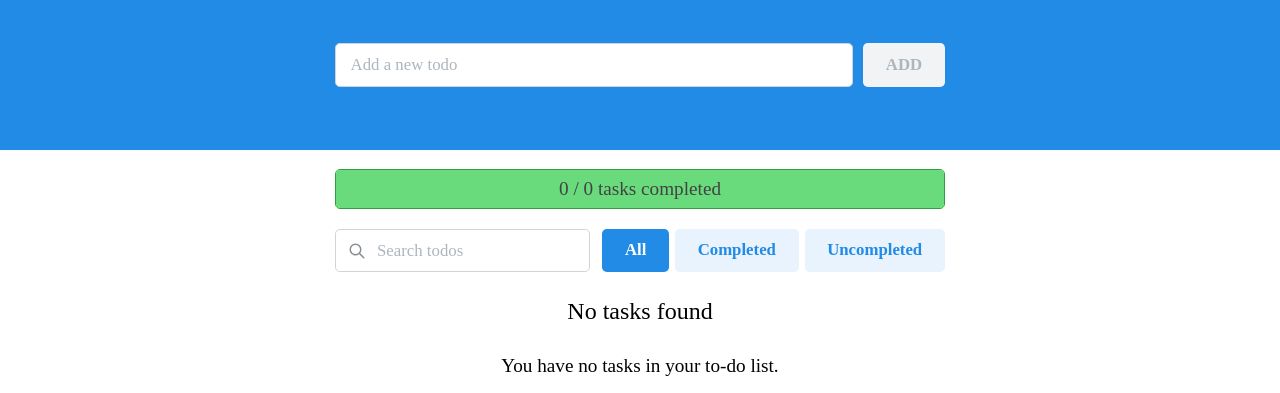
Scenario: Todo › Desktop › Should add an item to the list
The image size is (1280, 393).
In the field with test id "new-todo-input": {"x": 594, "y": 65} [335,43,853,86], type "Walk the dog"
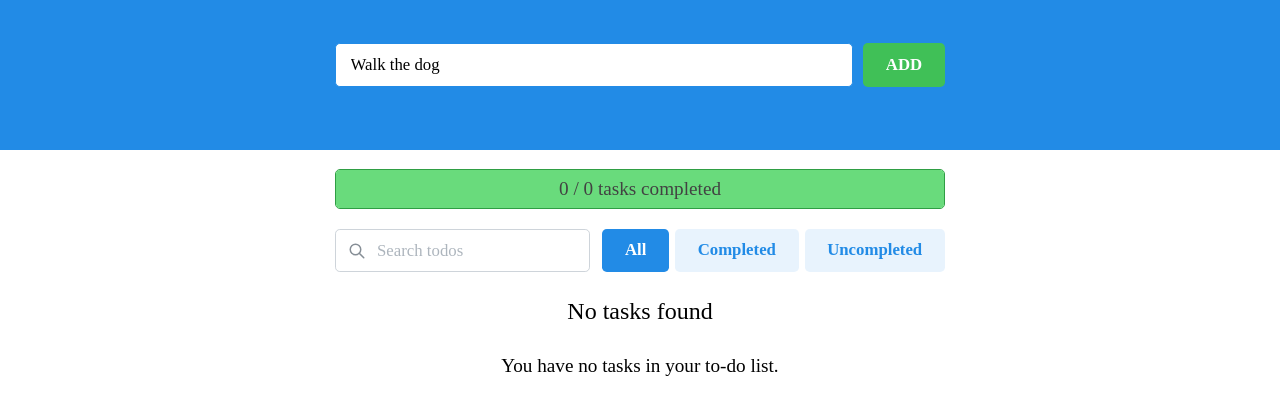
Click the button with test id "add-todo-button": {"x": 904, "y": 65} [863,43,945,86]
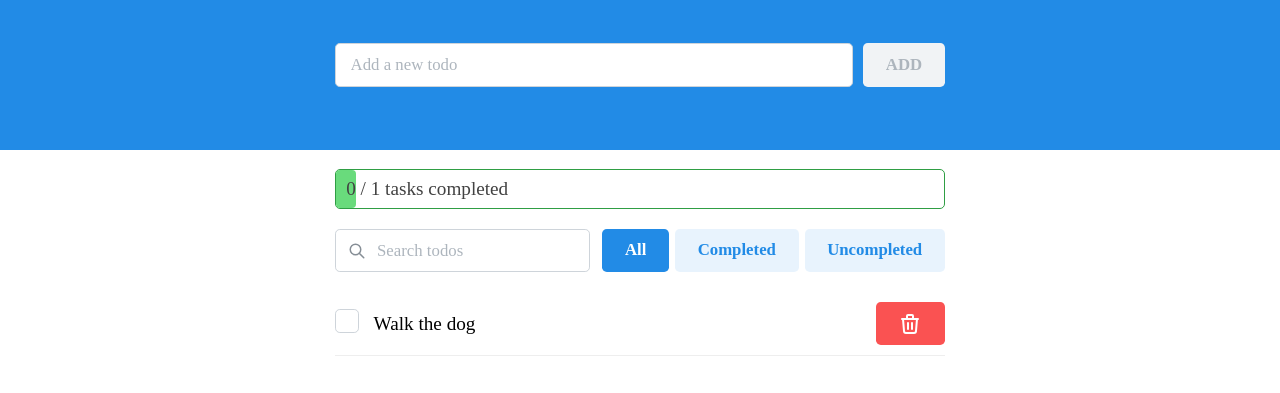
Check: the text "Walk the dog" is shown, box [374,309,475,339]
